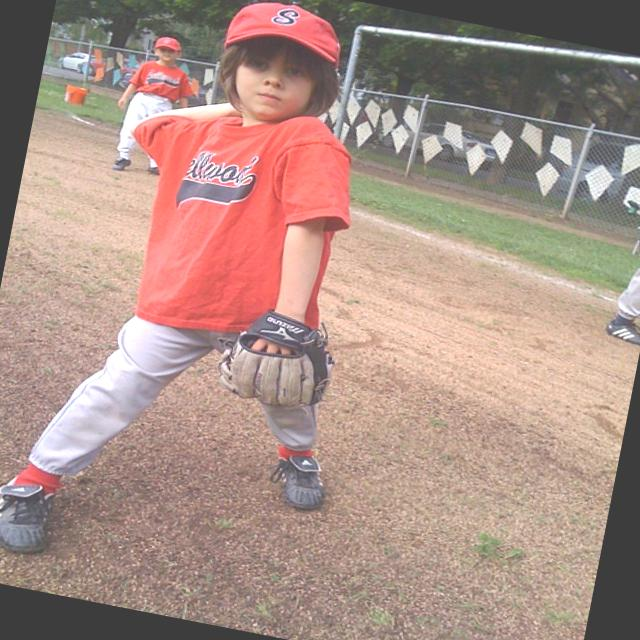Vehicle: (553, 131, 640, 219), (378, 114, 500, 172), (56, 48, 98, 76), (122, 57, 140, 70)
